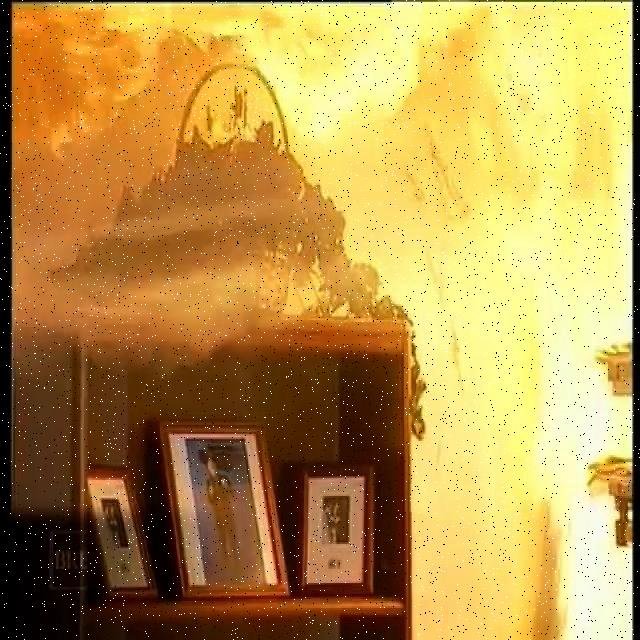fire: (264, 14, 640, 495)
